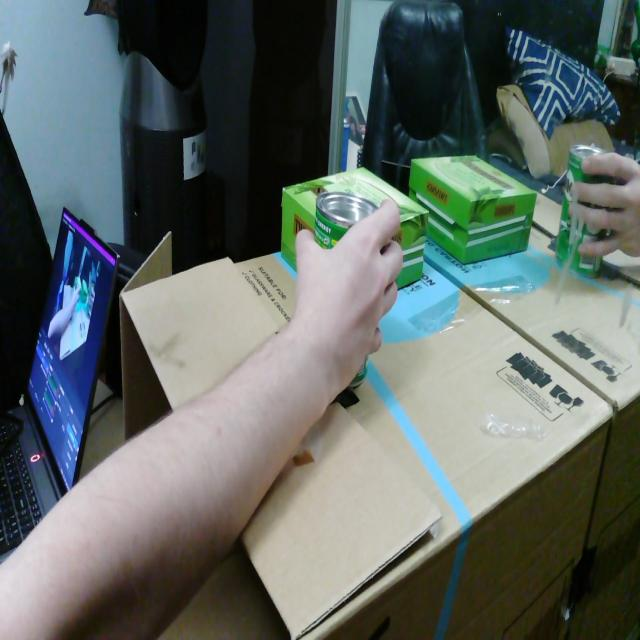nestle_milo_tin: (315, 193, 379, 249)
twinings_greentea_box: (281, 168, 428, 287)
